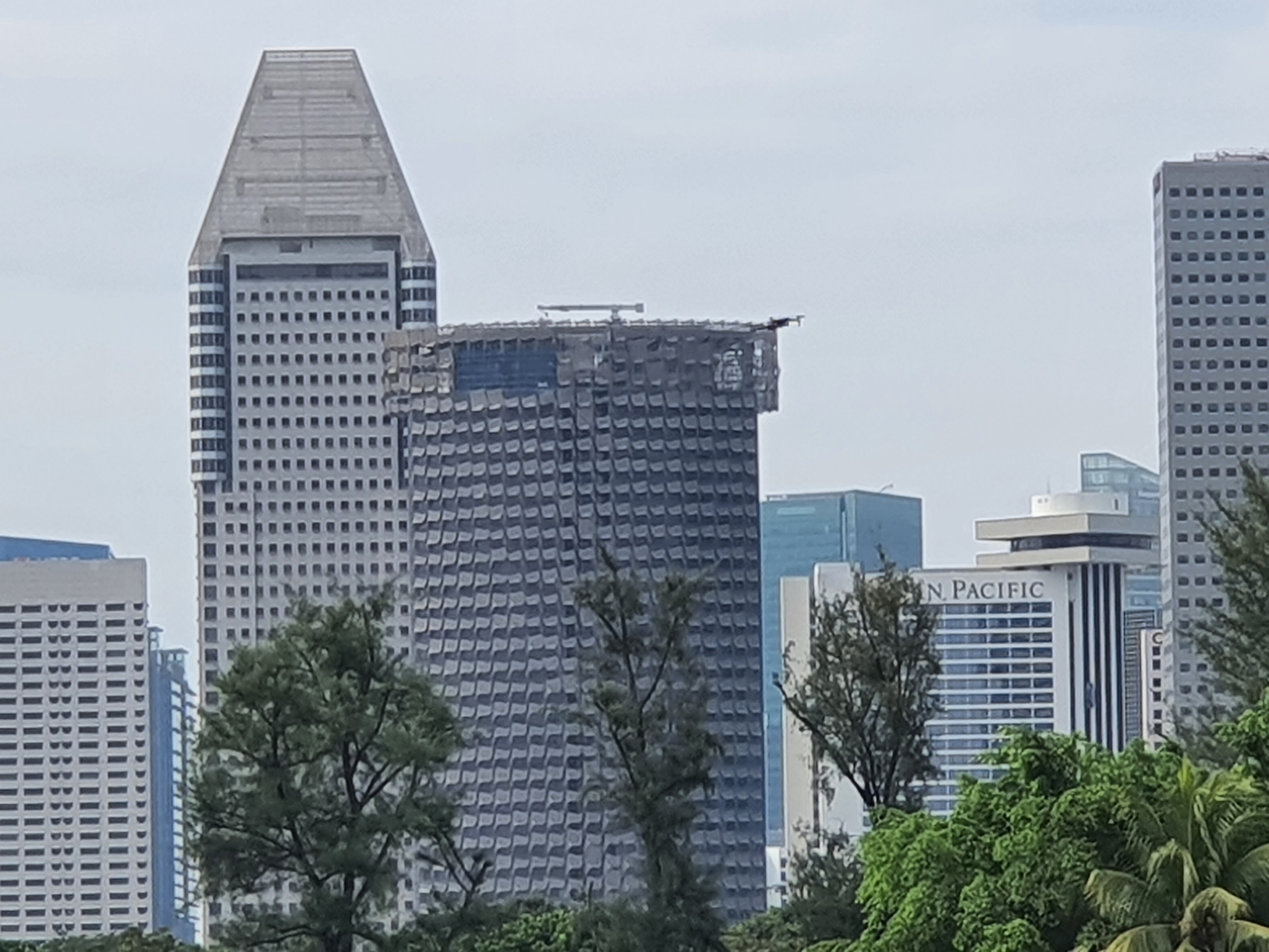drone_other: (750, 312, 810, 338)
